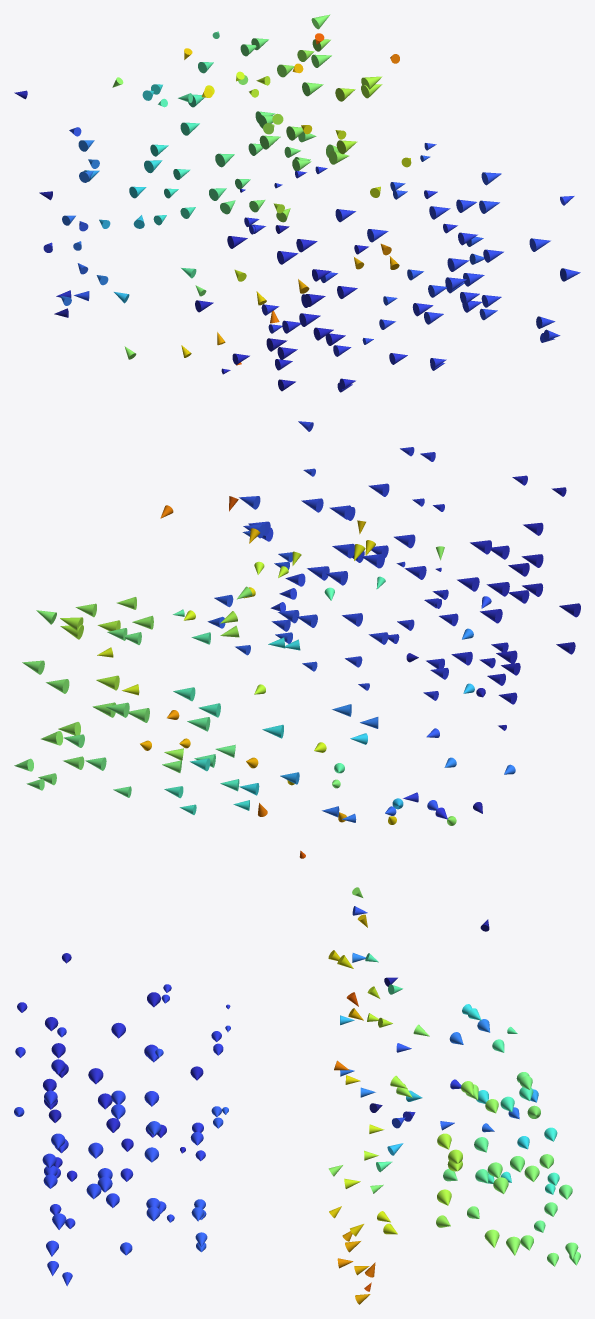
The model's file is LineasCorrienteN2-H2O_mh2-2.70_V-0.8.glb.
The picture shows the model from 3 angles, top to bottom: view 1: azimuth 30°, elevation 25°; view 2: azimuth 150°, elevation 25°; view 3: azimuth 270°, elevation 25°; orthographic projection. The views are drawn at different scales.
Bounding box in the file's own units: 0.000986 × 0.000813 × 0.0012.
Materials: 2 (2 with a texture image).
